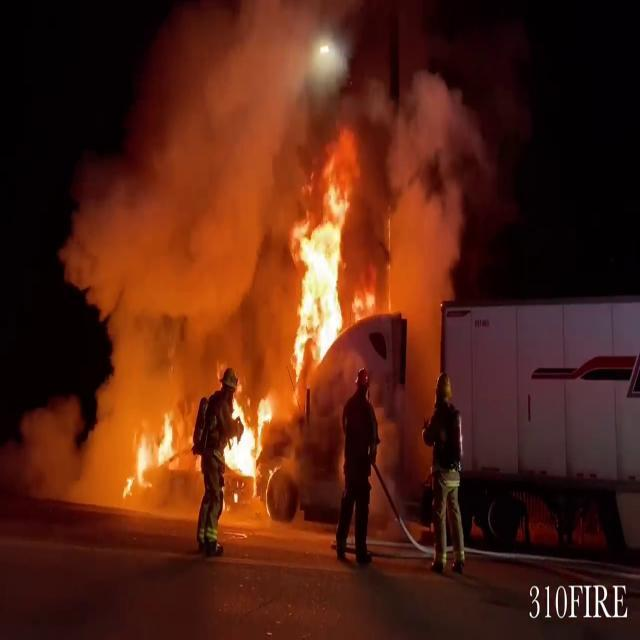Fire: (281, 160, 371, 374), (219, 383, 275, 502), (118, 404, 184, 498)
Smoke: (57, 2, 298, 370), (341, 69, 493, 346)
